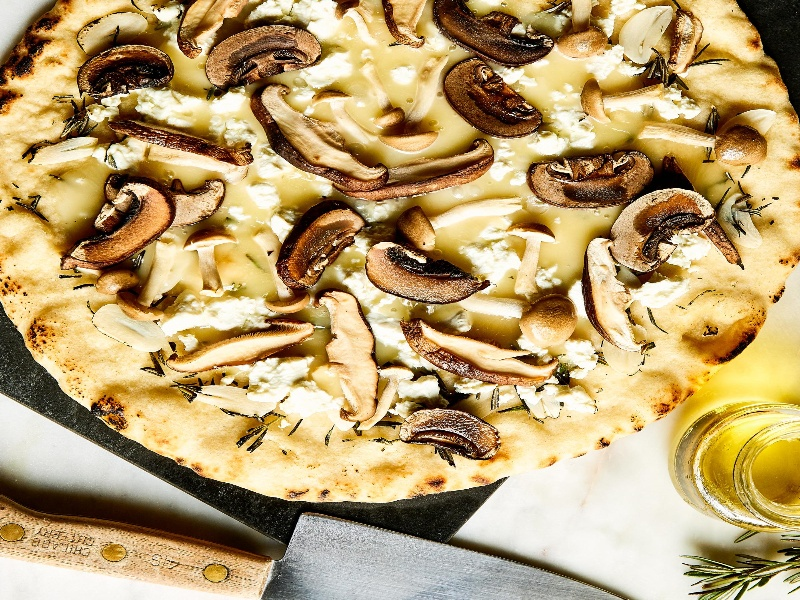champignon: (248, 77, 398, 203), (607, 184, 721, 279), (63, 184, 180, 273), (578, 236, 658, 361), (204, 18, 328, 94), (526, 144, 662, 213), (364, 242, 501, 309), (436, 53, 545, 137), (386, 403, 512, 468), (74, 40, 188, 96)
